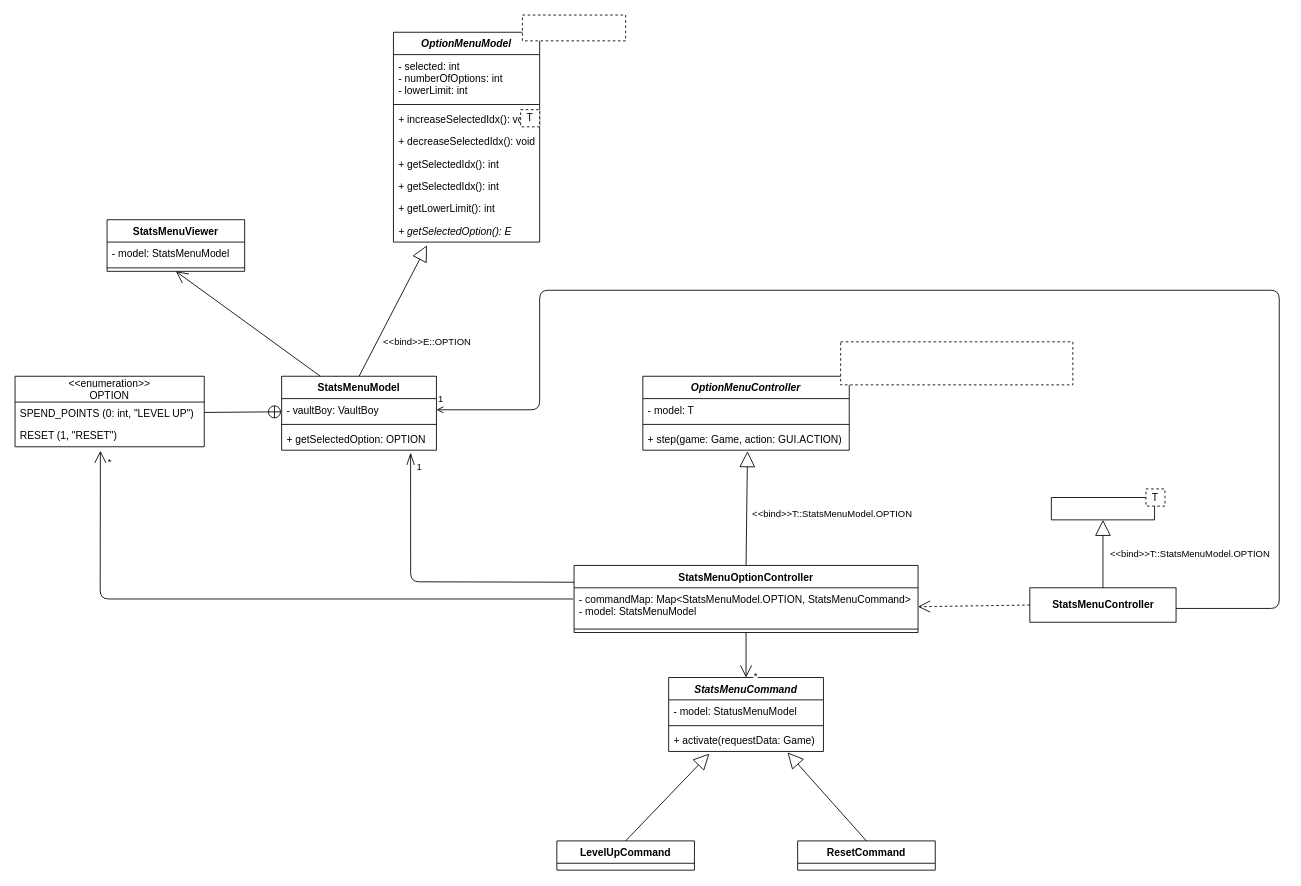
Some shapes in this 1301 by 886 pixel diagram are drawn without their labels. Each missing label, with the centre of its shape:
"E extends Enum<E>" belongs at [574,27].
"MainController" belongs at [1102,508].
"T extends OptionMenuModel<? extends Enum>" belongs at [956,363].
